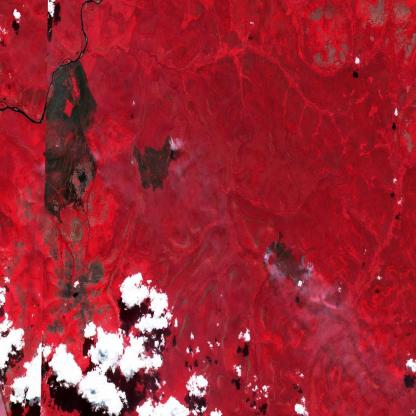fire: (297, 251, 317, 278), (164, 133, 180, 161), (262, 240, 276, 267)
